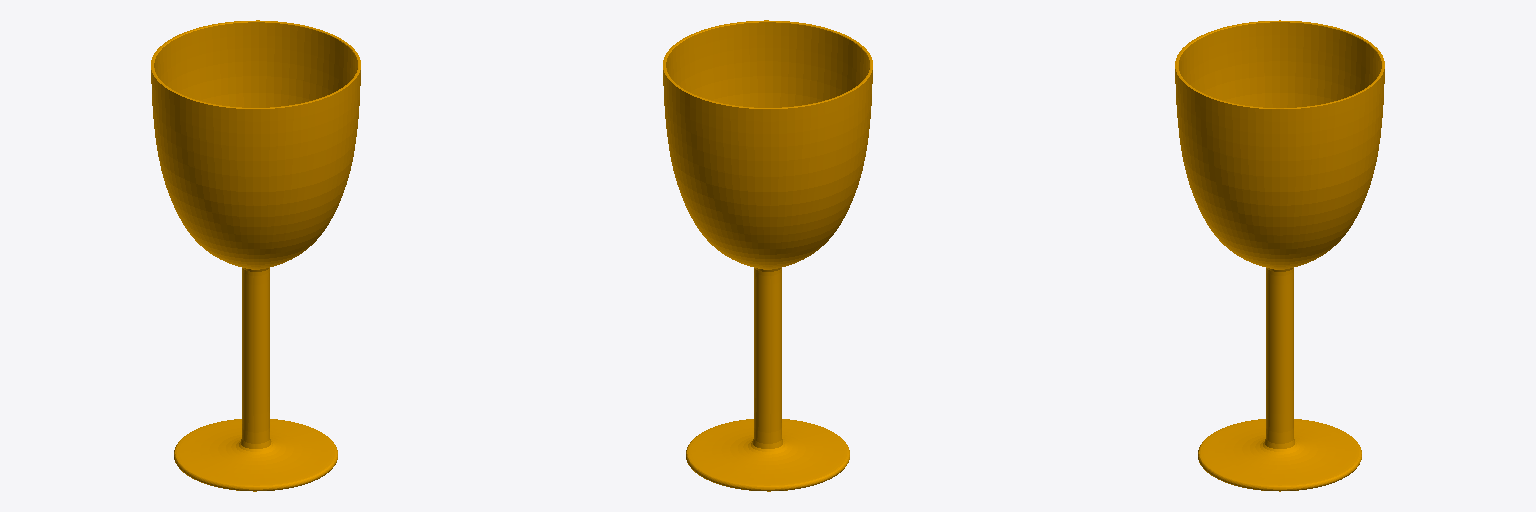
URDF robot description (wine_glass):
<robot name="wine_glass">
  <link name="wine_glass">
    <inertial>
      <origin xyz="0 0 0.0145"/>
      <mass value="0.1" />
      <inertia  ixx="0.0001" ixy="0.0"  ixz="0.0"  iyy="0.0001"  iyz="0.0"  izz="0.0001" />
    </inertial>
    <visual>
      <origin xyz="0 0 0.0145"/>
      <geometry>        
     <mesh filename="wine_glass.dae" scale="1 1 1"/>
    </geometry>
    </visual>
    <collision>
      <origin xyz="0 0 0.0145"/>
      <geometry>
        <box size="0.029 0.029 0.029"/>
      </geometry>
    </collision>
  </link>
  <gazebo reference="wine_glass">
    <material>Gazebo/Blue</material>
  </gazebo>
</robot>

--- Render facts (derived) ---
3 views of the same robot in one strip: view 1: azimuth 30°, elevation 25°; view 2: azimuth 150°, elevation 25°; view 3: azimuth 270°, elevation 25° (orthographic).
Model wine_glass with 1 links and 0 joints (none), rooted at wine_glass, posed every joint at zero.
Links seen in each view (by area): view 1: wine_glass; view 2: wine_glass; view 3: wine_glass.
Boxes of the visible links, left/top/right/bottom form: wine_glass: left=151, top=20, right=360, bottom=491; wine_glass: left=663, top=20, right=872, bottom=491; wine_glass: left=1175, top=20, right=1384, bottom=491.
Size in the robot's own frame: 0.0813 by 0.0811 by 0.1674 metres.
1 mesh visuals loaded from 1 distinct referenced files (1 Collada DAE).